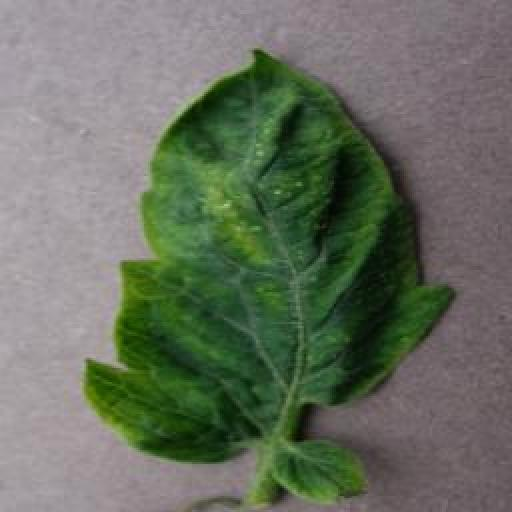disease_tomato: (87, 51, 459, 461)
